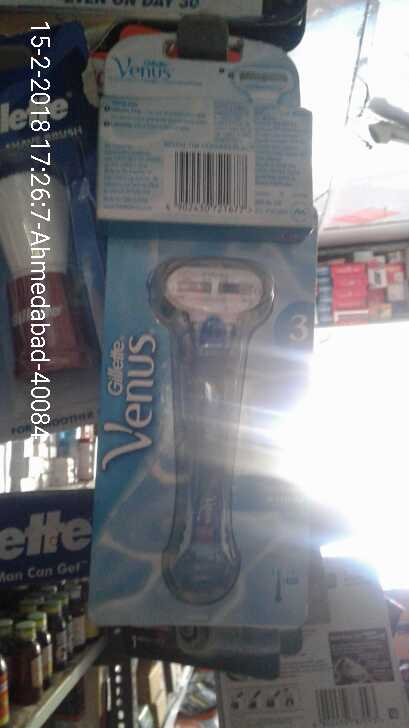venus: (102, 227, 306, 625)
